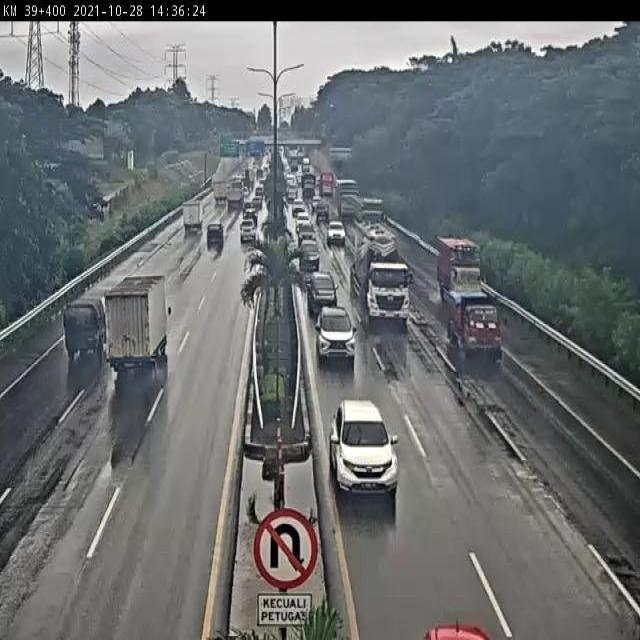big truck: (349, 224, 413, 327), (105, 275, 169, 368)
car: (330, 401, 399, 496), (62, 295, 106, 361), (317, 308, 357, 361), (305, 268, 337, 315), (298, 236, 320, 271), (205, 220, 226, 248), (238, 217, 258, 244), (326, 220, 346, 244), (297, 221, 316, 244)
small truck: (448, 287, 503, 364), (437, 237, 483, 300), (179, 201, 205, 235)
